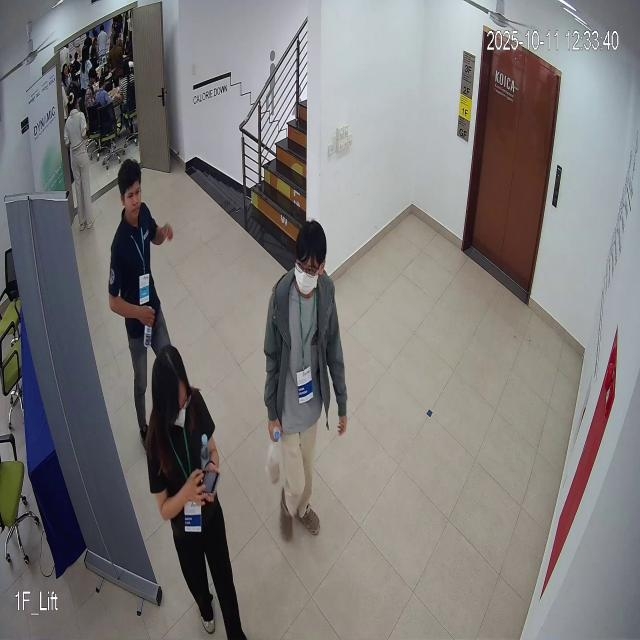face: (114, 156, 146, 222)
